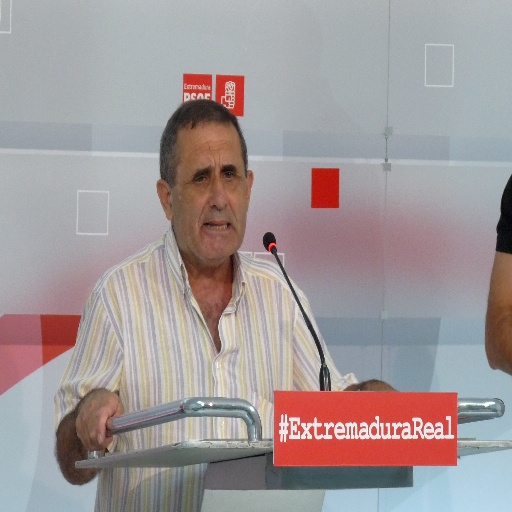hand: (66, 393, 122, 465), (368, 380, 396, 391)
